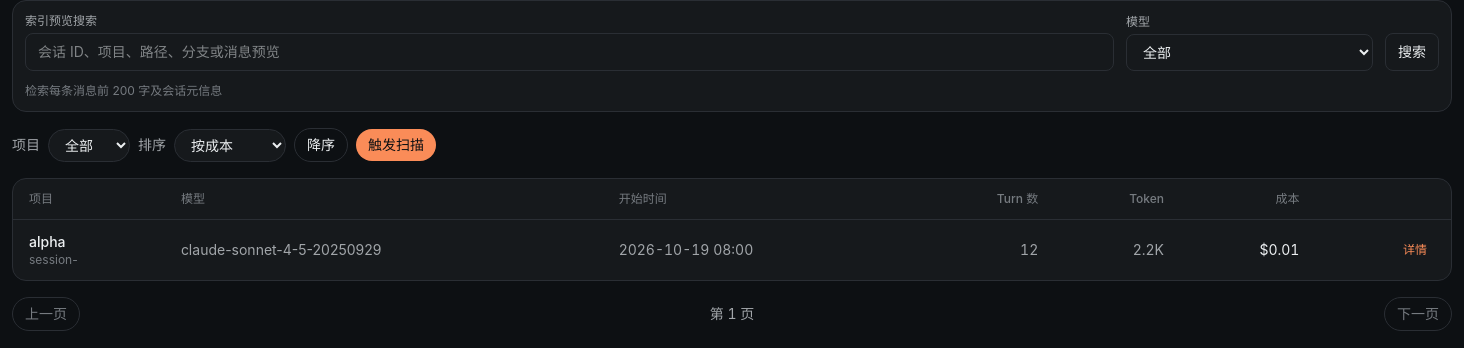
Test case: SessionsPage › 点击方向按钮切换升降序
Expected: the number of rows with test id "session-row" is 1, x1=13 y1=220 x2=1451 y2=280
Click the button "降序" at (321, 145), box x1=294 y1=128 x2=348 y2=162
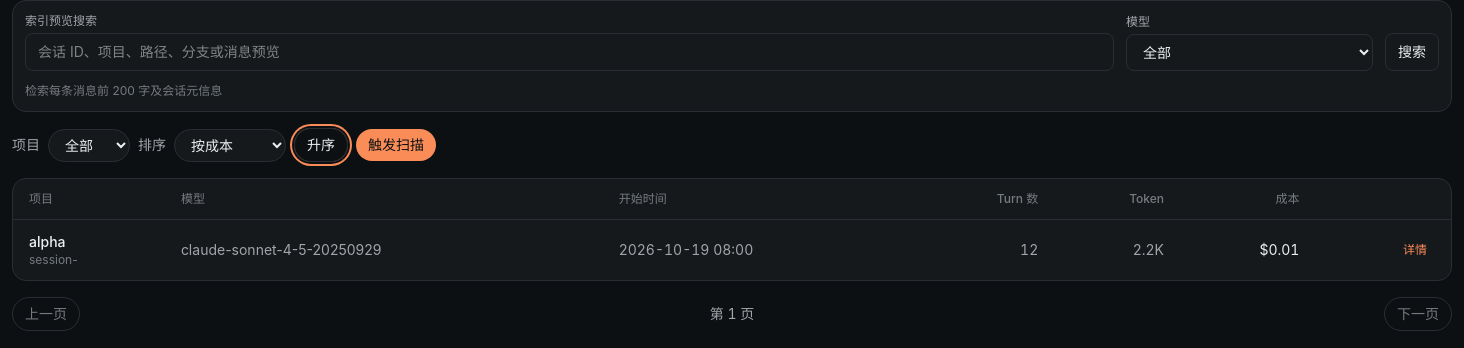
Now the button "升序" is shown
# 再点一次应当原路返回，而不是卡在 asc
Click the button "升序" at (321, 145), box x1=294 y1=128 x2=348 y2=162
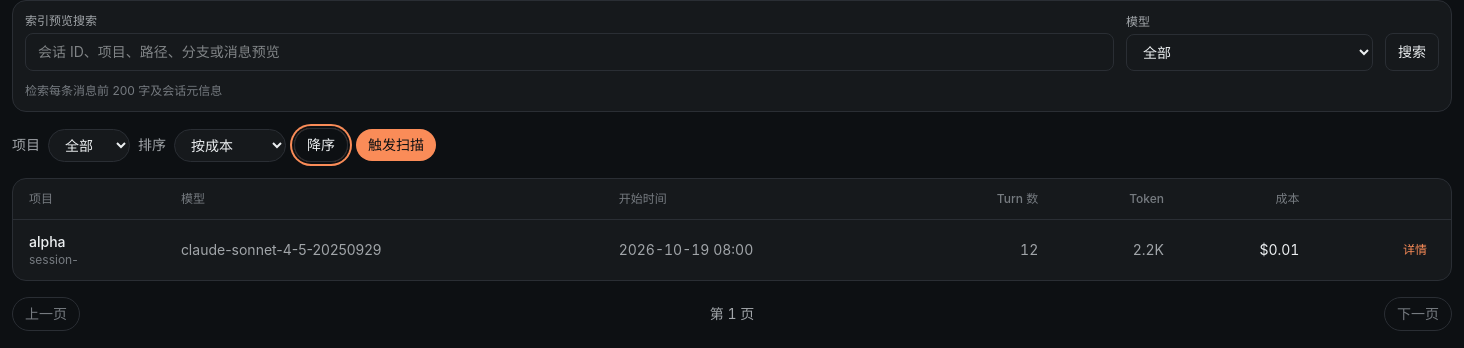
Now the button "降序" is shown, box x1=294 y1=128 x2=348 y2=162
